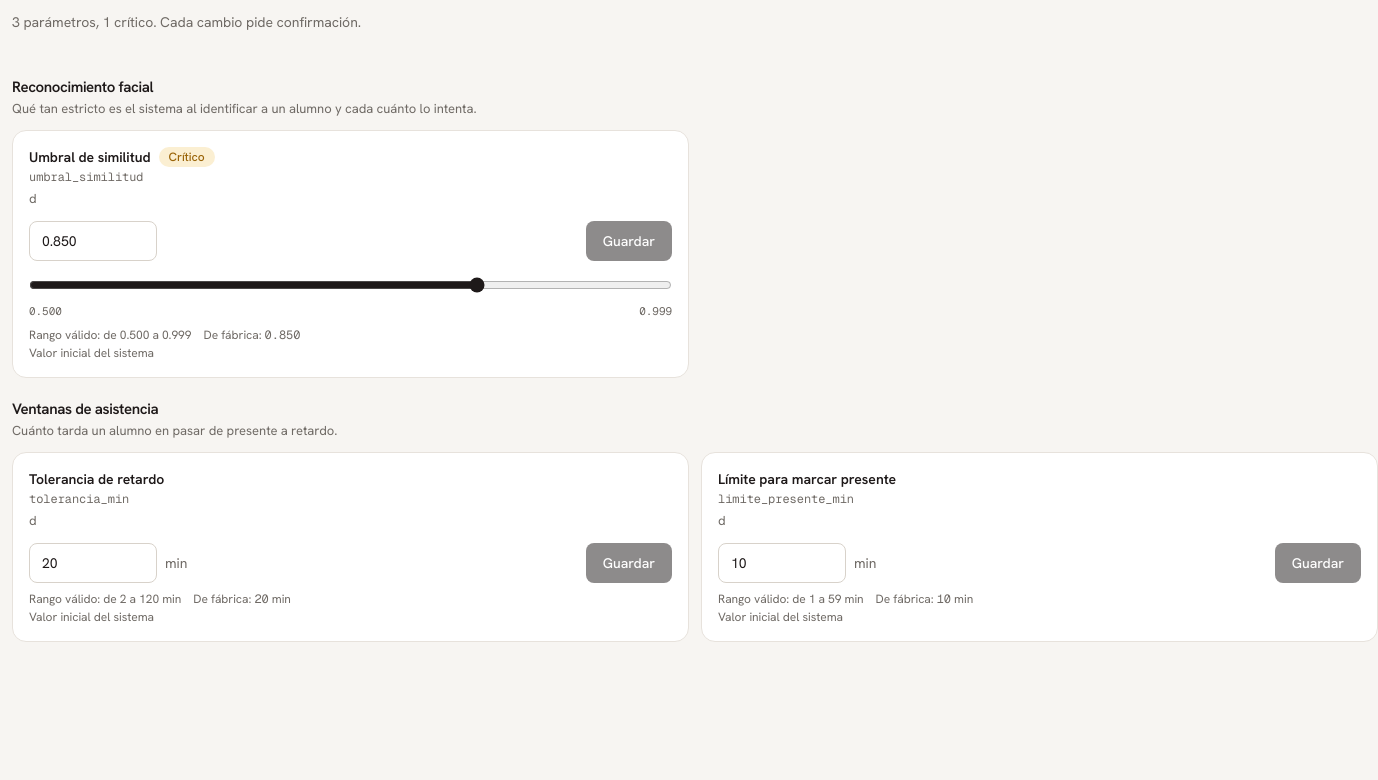
Test: ParametrosEditor: guía para teclear un valor válido › avisa de más de 3 decimales y de valores que no son número
The image size is (1378, 780).
Replace the text in the field labelled "Umbral de similitud" with "0.8501": point(93, 240) left=29, top=220, right=157, bottom=260
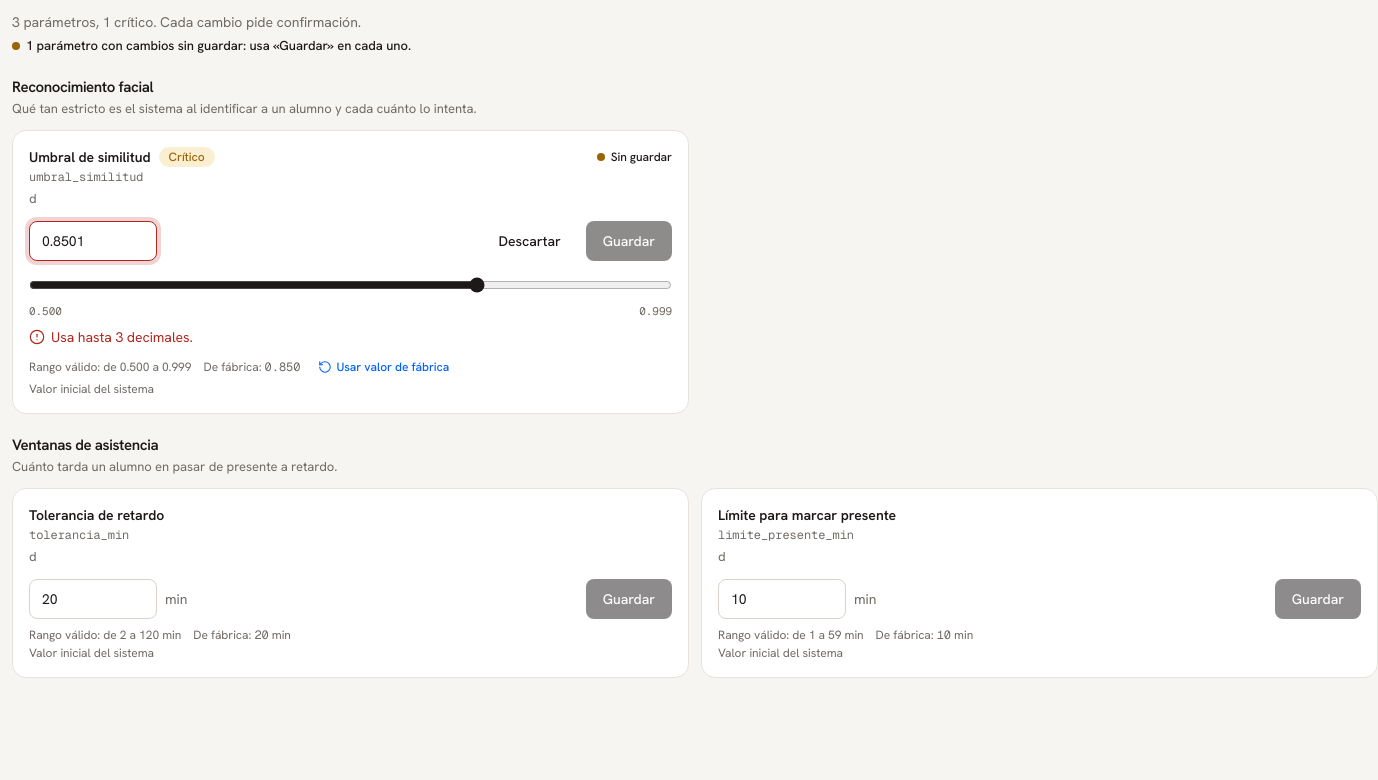
Result: the text "Usa hasta 3 decimales." is shown at left=29, top=328, right=193, bottom=346
Replace the text in the field labelled "Umbral de similitud" with "abc": point(93, 240) left=29, top=220, right=157, bottom=260
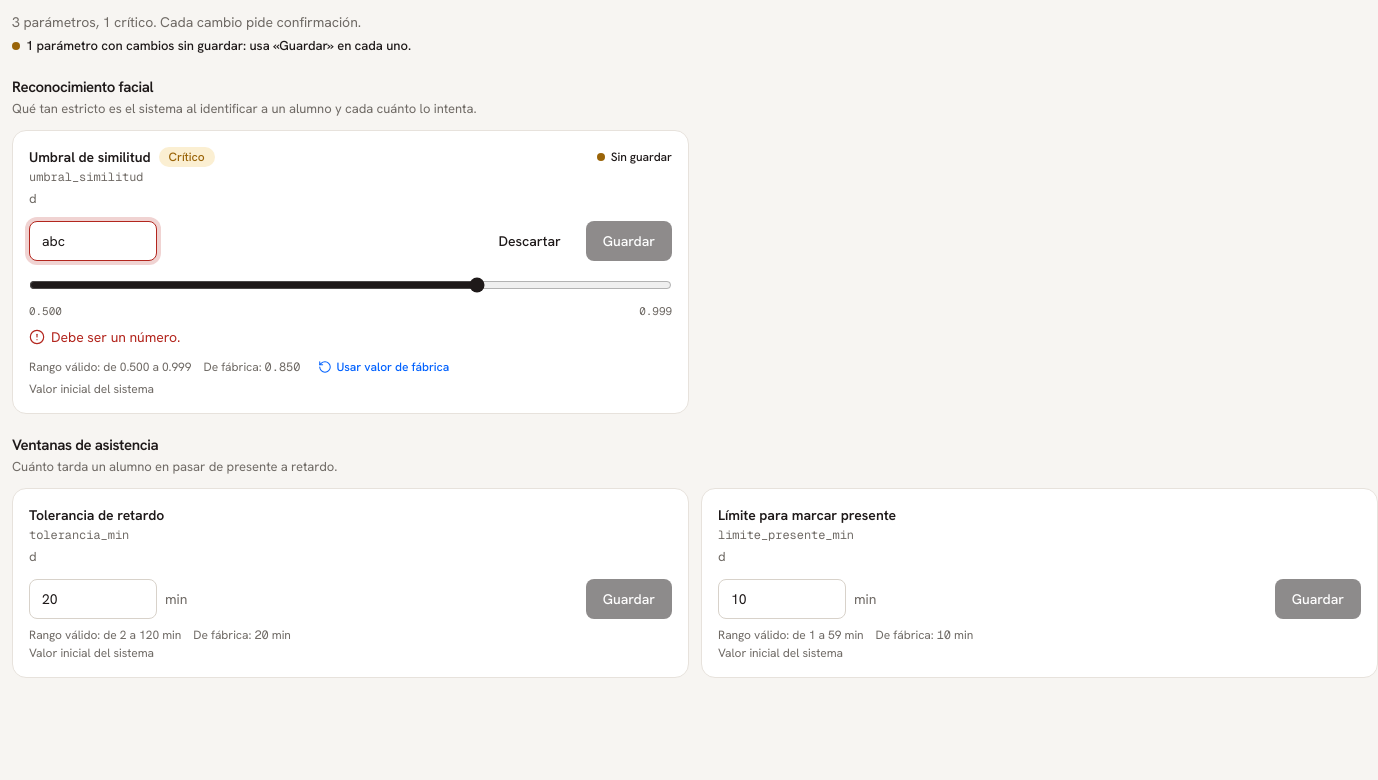
Result: the text "Debe ser un número." is shown at left=29, top=328, right=180, bottom=346
